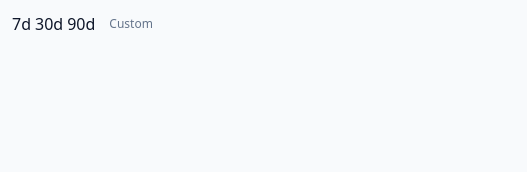
Scenario: DaysFilter › clicking Custom reveals date inputs
Click the button with test id "days-custom-button" at (131, 24), box x1=99 y1=12 x2=163 y2=36
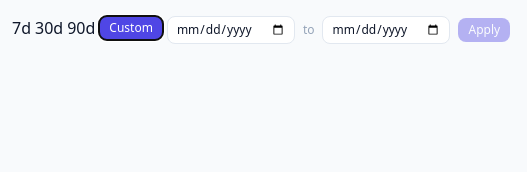
Expected: the element with test id "custom-date-inputs" is shown, x1=167 y1=16 x2=510 y2=44
